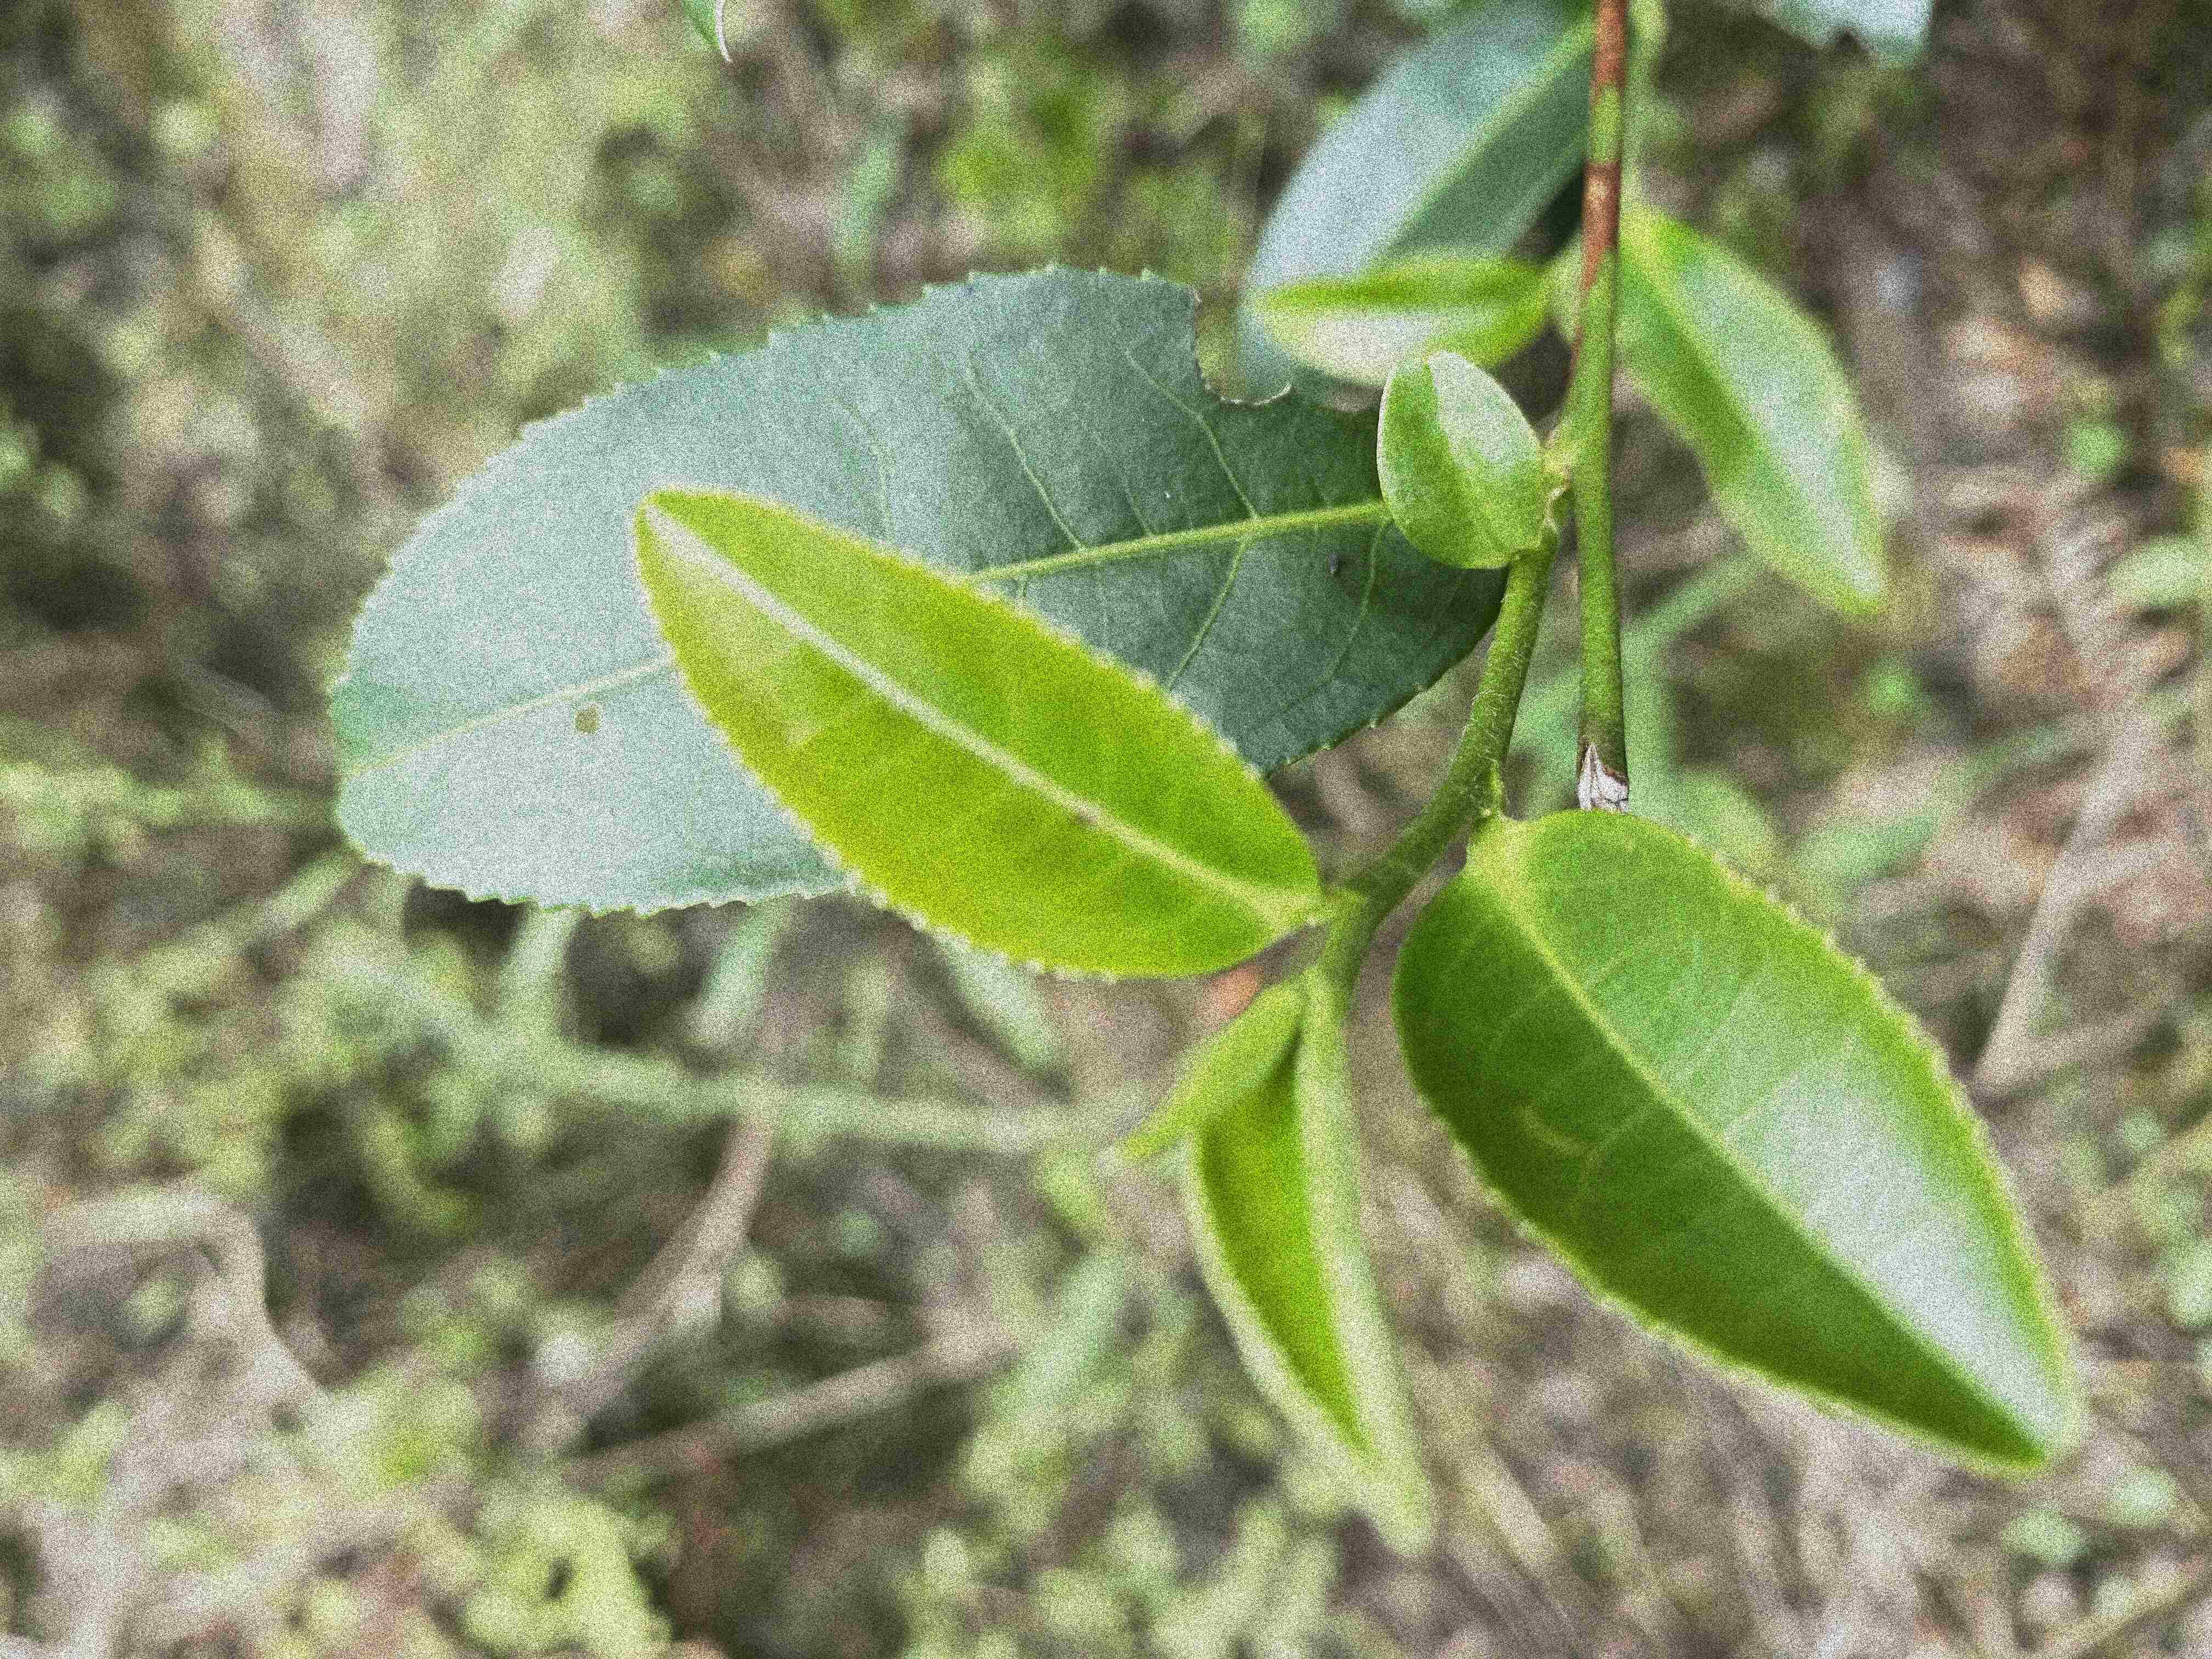chihuo_high: (322, 263, 1503, 920)
healthy: (1388, 807, 2092, 1469), (629, 488, 1325, 983), (1372, 350, 1545, 570)
